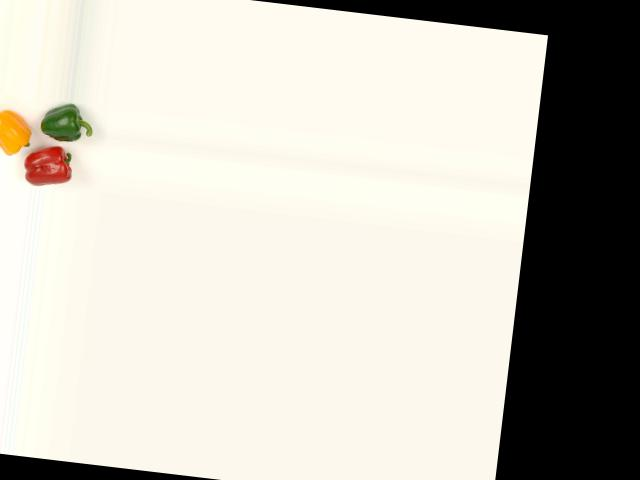bell_pepper: (38, 100, 97, 147)
